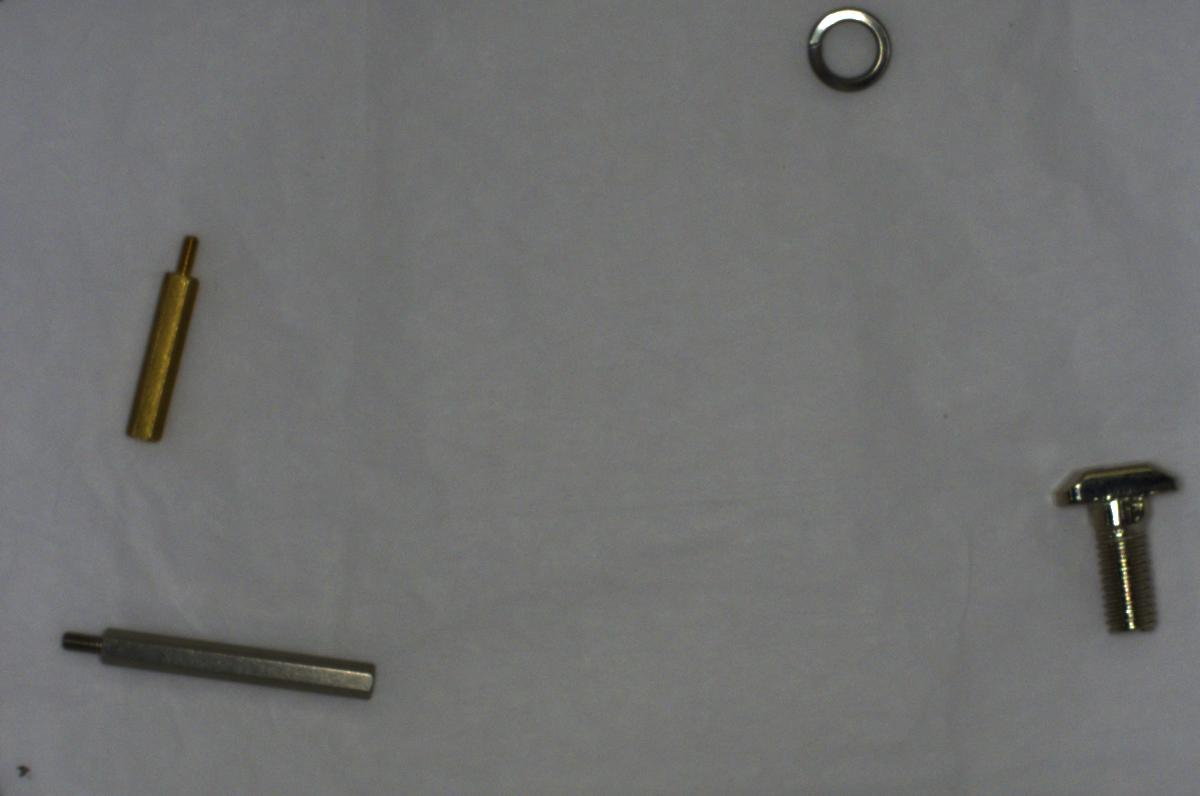Hexagon pillar: (113, 225, 211, 458)
Hexagonal steel column: (39, 613, 381, 716)
Spring washer: (793, 8, 897, 94)
T-shaped screw: (1048, 447, 1186, 649)
